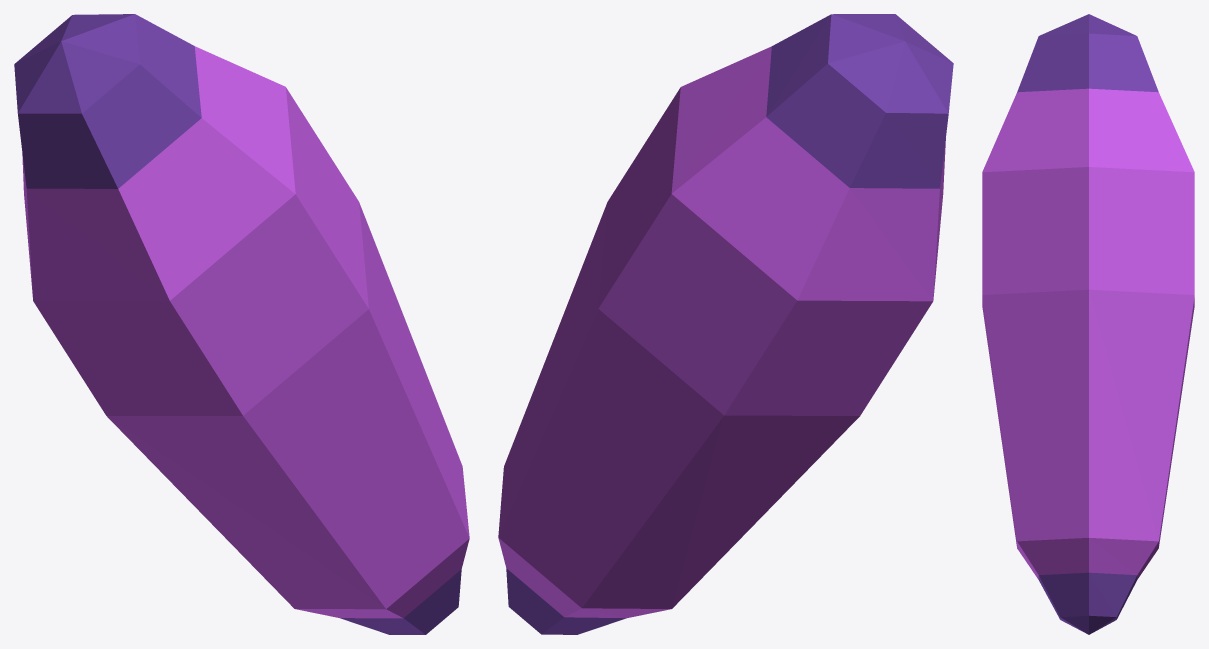
The model's file is rightFootPik.FBX.
3 views of the same model, side by side, from view 1: azimuth 30°, elevation 25°; view 2: azimuth 150°, elevation 25°; view 3: azimuth 270°, elevation 25° (orthographic). The views are drawn at different scales.
Parts seen in each view (by area): view 1: VIFS001, VIFS002; view 2: VIFS001, VIFS002; view 3: VIFS001, VIFS002.
Part boxes in pixels (bbox=[...]): VIFS001: bbox=[22, 46, 469, 618]; VIFS002: bbox=[14, 14, 461, 634]; VIFS001: bbox=[498, 46, 945, 618]; VIFS002: bbox=[506, 14, 953, 634]; VIFS001: bbox=[982, 88, 1194, 579]; VIFS002: bbox=[1017, 14, 1158, 634].
Bounding box in the file's own units: 0.3644 × 0.5345 × 0.207.
